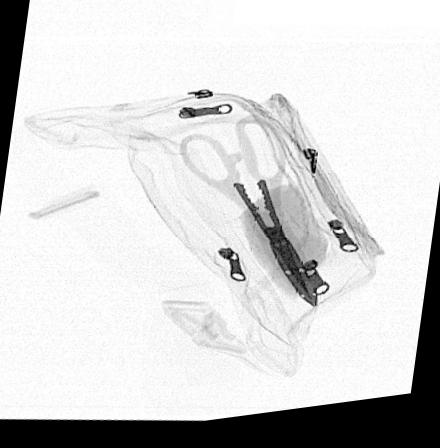Scissors: (174, 120, 320, 321)
